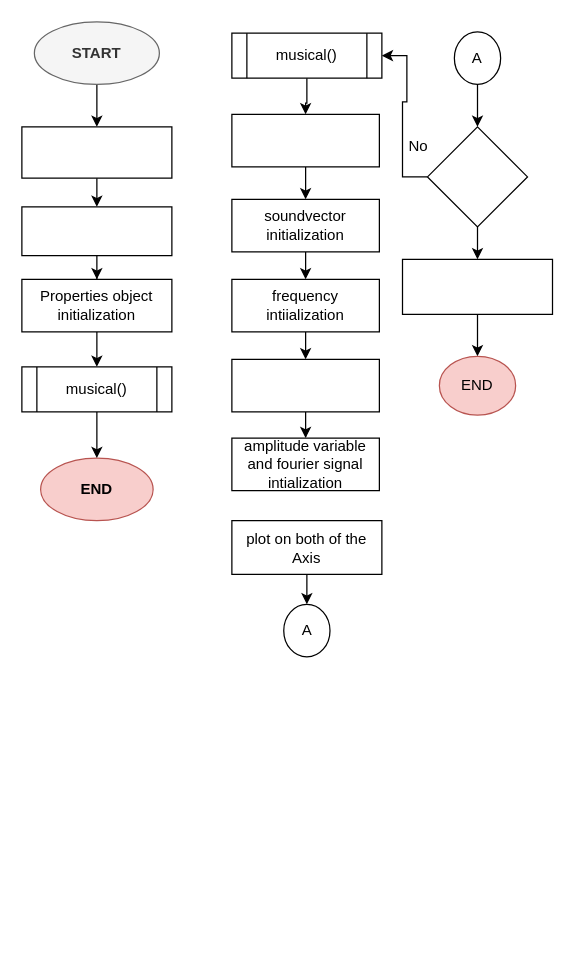
The diagram is 575 pixels wide and 980 high, and some of its shapes have lost their labels. The box of each missing label's shape, as (x1, y1, x2, y2) in pixels:
concatenate the previous note with the new one.: (401, 258, 552, 314)
GUI implementation: (21, 126, 172, 178)
If record button pressed: (426, 126, 528, 227)
Properpties declaration: (21, 206, 172, 256)
sample time initialization: (231, 113, 379, 167)
time variable initialization.: (231, 358, 379, 412)
